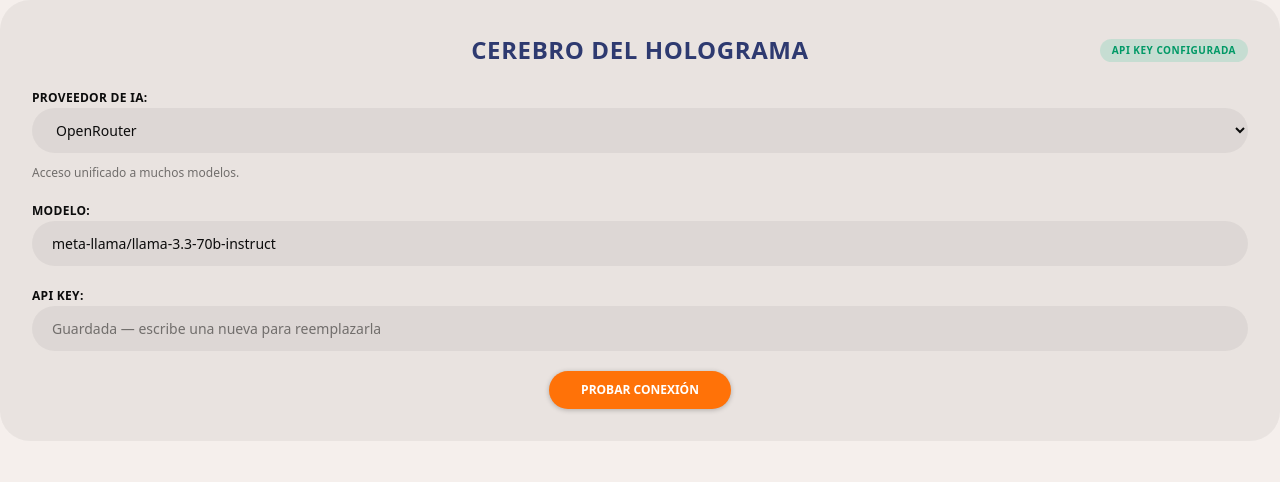
Scenario: ProviderConfigCard › runs a real connection probe and shows the returned message
Click the button "Probar conexión".
click(640, 390)  # box x1=549 y1=371 x2=731 y2=409
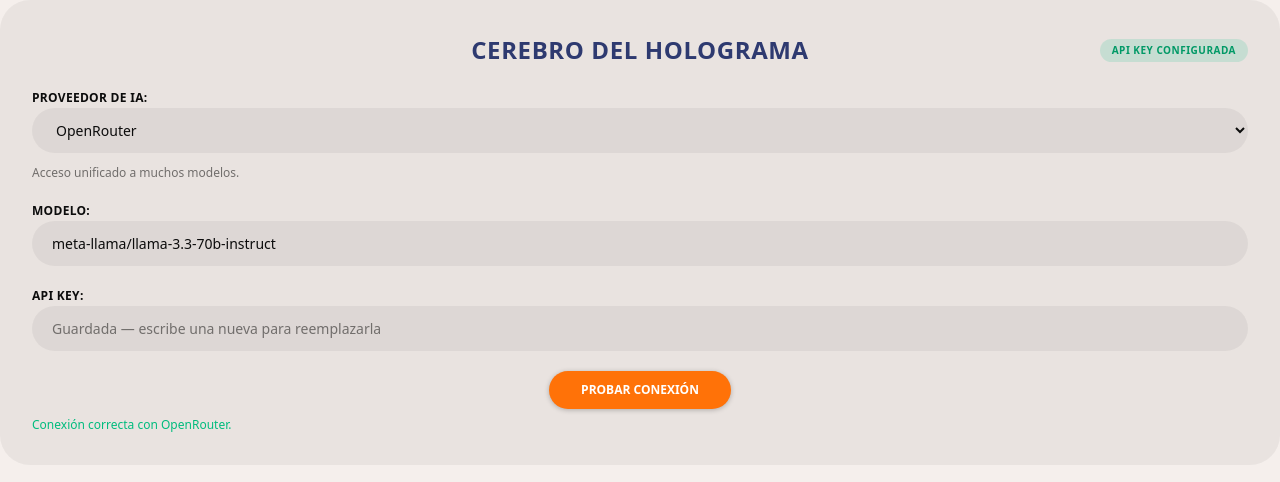
expect the text "Conexión correcta con OpenRouter." is shown: met, box x1=32 y1=416 x2=231 y2=433
